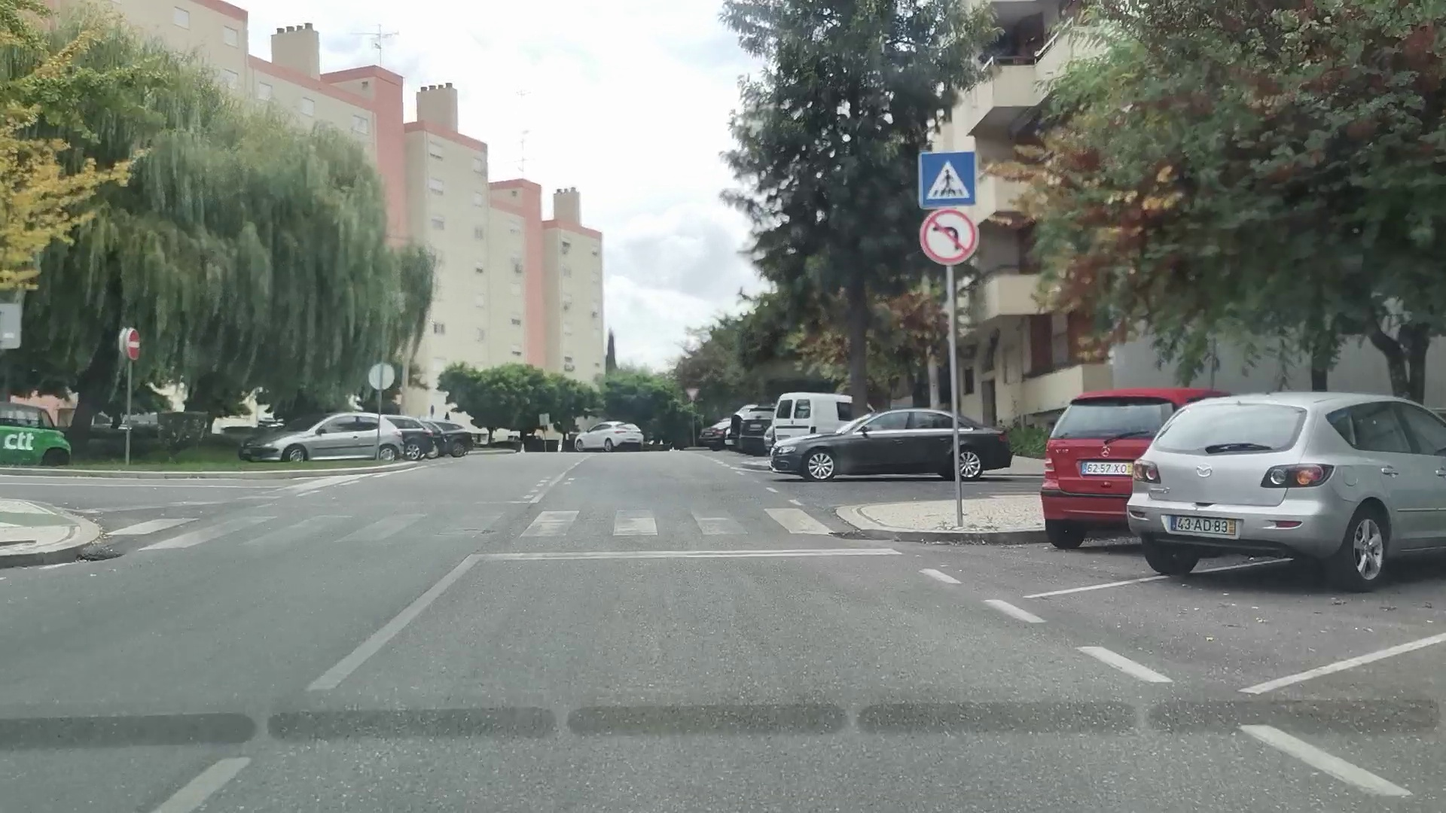Stairs: (119, 506, 833, 552)
